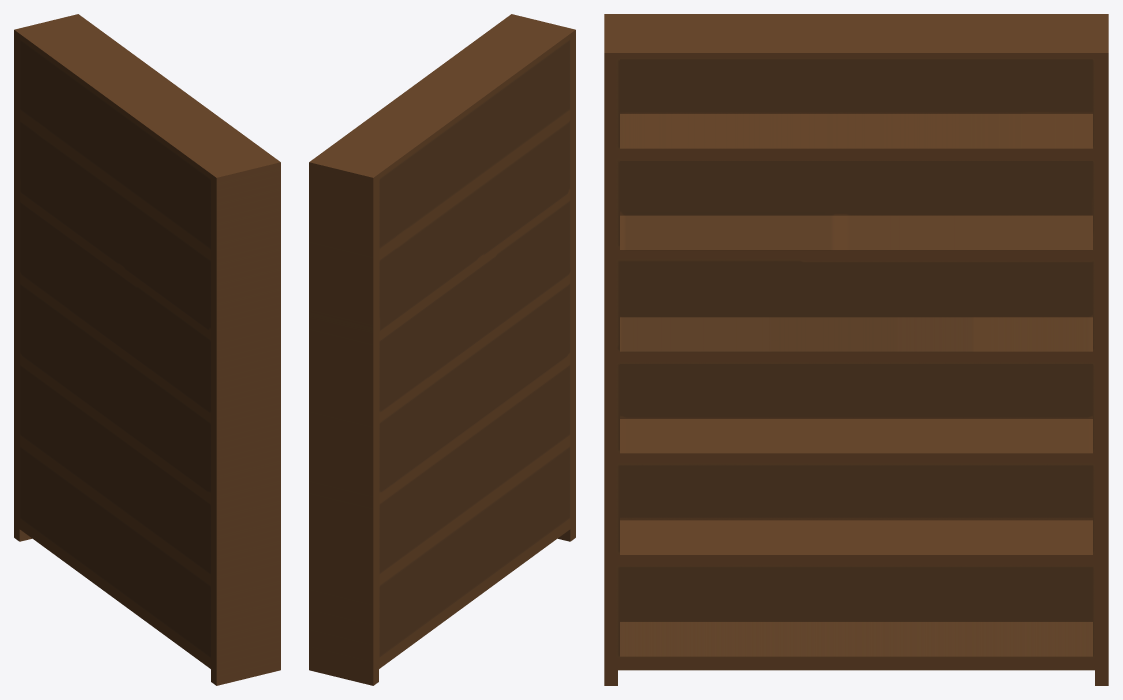
The model's file is bookcase.fbx.
3 views of the same model, side by side, from view 1: azimuth 30°, elevation 25°; view 2: azimuth 150°, elevation 25°; view 3: azimuth 270°, elevation 25° (orthographic). The views are drawn at different scales.
Visible parts, largest first — view 1: bookcase; view 2: bookcase; view 3: bookcase.
Boxes of the visible parts, bbox=[...] form: bookcase: bbox=[14, 14, 280, 685]; bookcase: bbox=[309, 14, 575, 685]; bookcase: bbox=[604, 14, 1108, 685].
Size of the model in its own units: 0.55 by 4.15 by 3.
